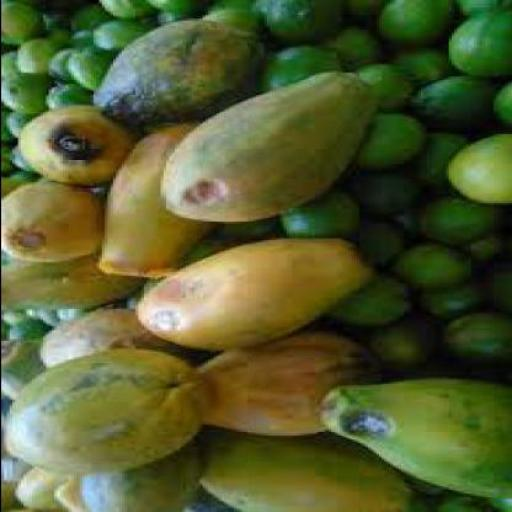biodegradable: (154, 69, 375, 221), (132, 236, 378, 348), (0, 343, 202, 473), (313, 376, 509, 498), (194, 427, 428, 510), (92, 119, 213, 276), (188, 330, 374, 432), (87, 16, 260, 122), (31, 305, 176, 369), (70, 438, 198, 510), (14, 104, 126, 186), (1, 252, 143, 310), (1, 178, 101, 260), (397, 194, 506, 242), (442, 130, 509, 201), (445, 5, 509, 77), (406, 74, 489, 128), (369, 0, 459, 49), (322, 274, 405, 324), (353, 111, 425, 168), (245, 0, 342, 42), (361, 314, 434, 368), (384, 242, 470, 287), (440, 312, 510, 366), (280, 190, 358, 236), (258, 45, 338, 89), (398, 131, 464, 182), (1, 316, 42, 398), (341, 170, 420, 212), (347, 62, 411, 108), (314, 24, 380, 67), (378, 46, 448, 84), (411, 278, 481, 314), (8, 465, 62, 511), (350, 216, 402, 260), (1, 0, 43, 47), (65, 46, 109, 89), (475, 260, 510, 311), (89, 18, 146, 48), (196, 6, 260, 32), (213, 218, 274, 244), (14, 38, 59, 72), (2, 71, 40, 111), (50, 471, 87, 510), (179, 486, 232, 510), (422, 492, 492, 510), (456, 234, 504, 260), (487, 74, 509, 130), (401, 472, 445, 498), (64, 2, 98, 35), (190, 1, 249, 20), (42, 84, 90, 106), (2, 110, 37, 136), (448, 0, 506, 15), (182, 238, 216, 263), (98, 0, 145, 18), (43, 48, 67, 82), (335, 0, 380, 18), (64, 28, 92, 56), (6, 144, 36, 170), (140, 0, 198, 11), (151, 8, 196, 22), (0, 48, 17, 76), (45, 24, 69, 42), (1, 106, 11, 144), (2, 171, 37, 179), (1, 145, 9, 177), (490, 495, 509, 508)
